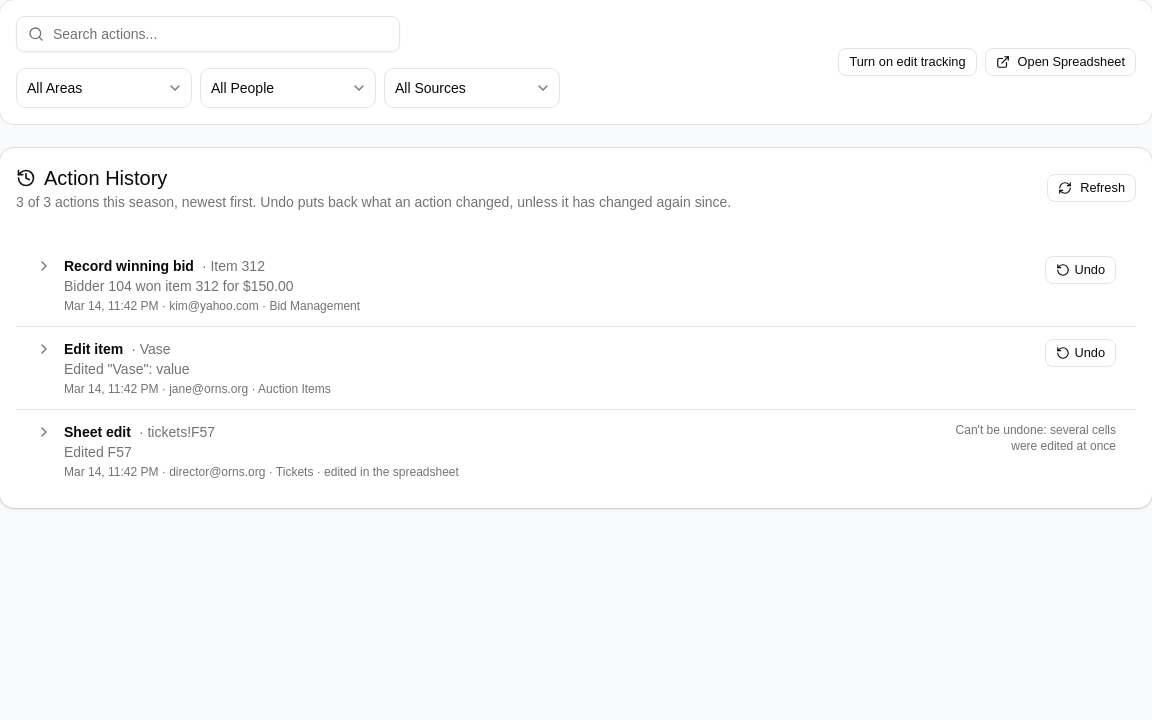
ActionHistoryAdmin › filters by person and by search
The width and height of the screenshot is (1152, 720).
Expected: the element with test id "action-row-a3" is shown, [16,244,1136,327]
Click the dropdown labelled "People". click: (288, 88)
box: [200,68,376,108]
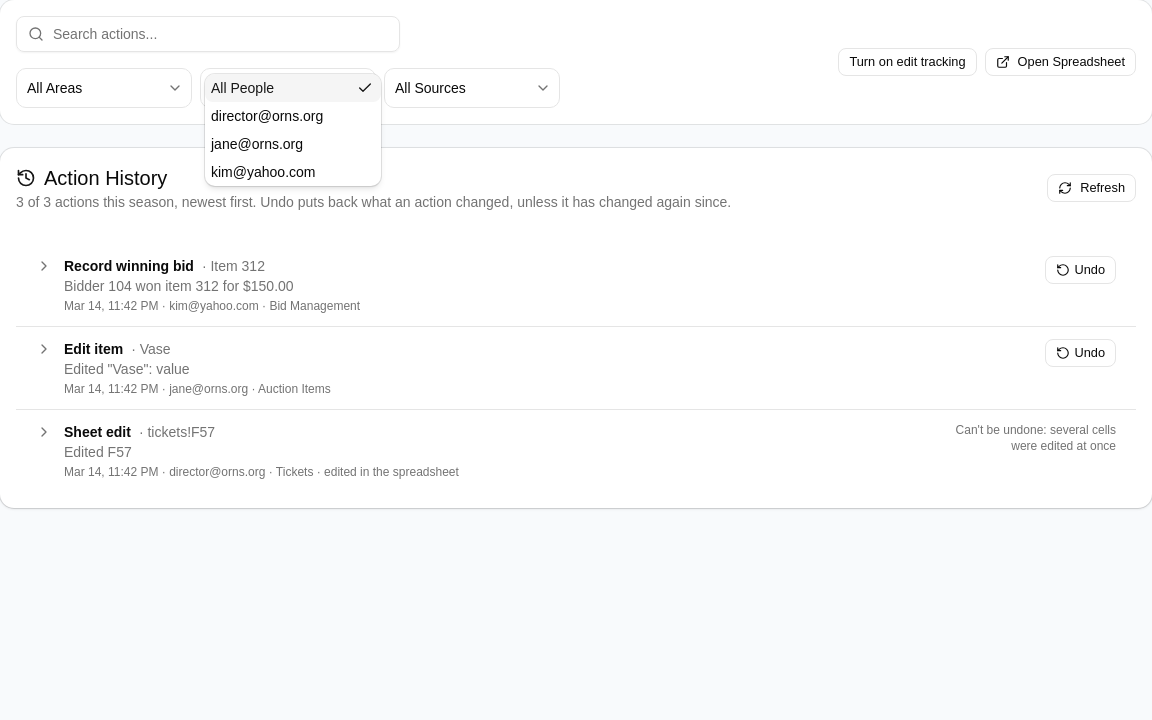
Click the option "jane@orns.org". click: (257, 144)
box: [211,136,303,152]
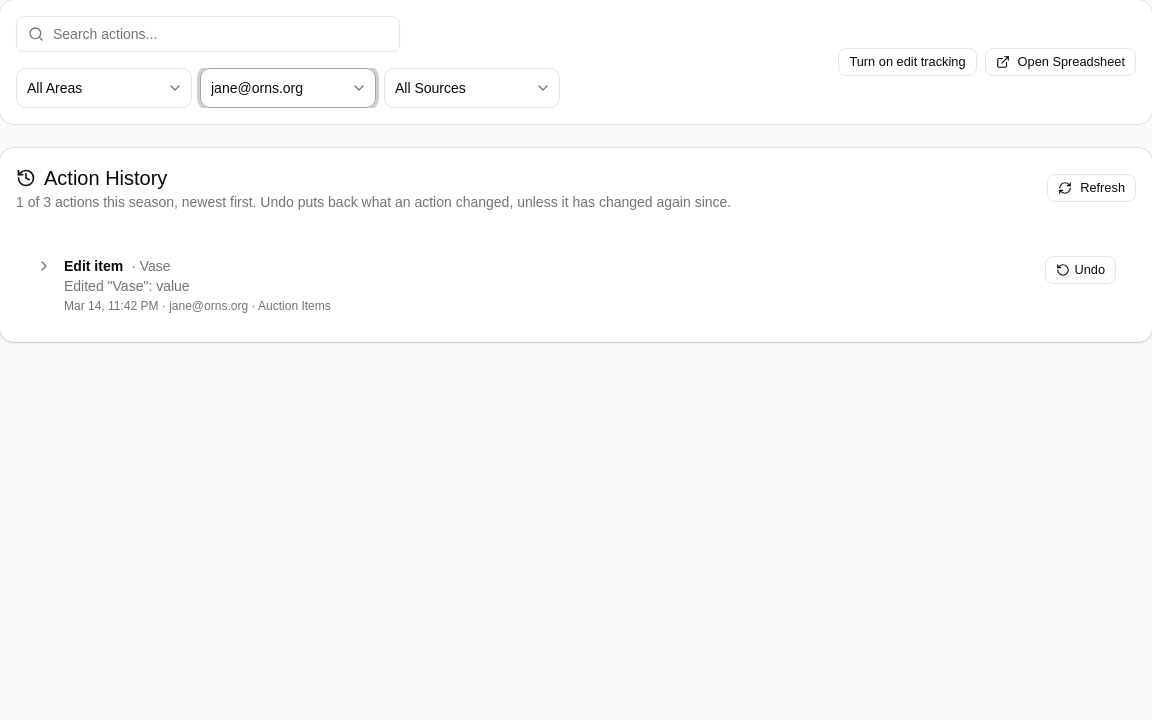
Expected: the element with test id "action-row-a2" is shown, [16,244,1136,326]
Result: the element with test id "action-row-a3" is gone
Click the dropdown named "People". click: (288, 88)
box: [200,68,376,108]
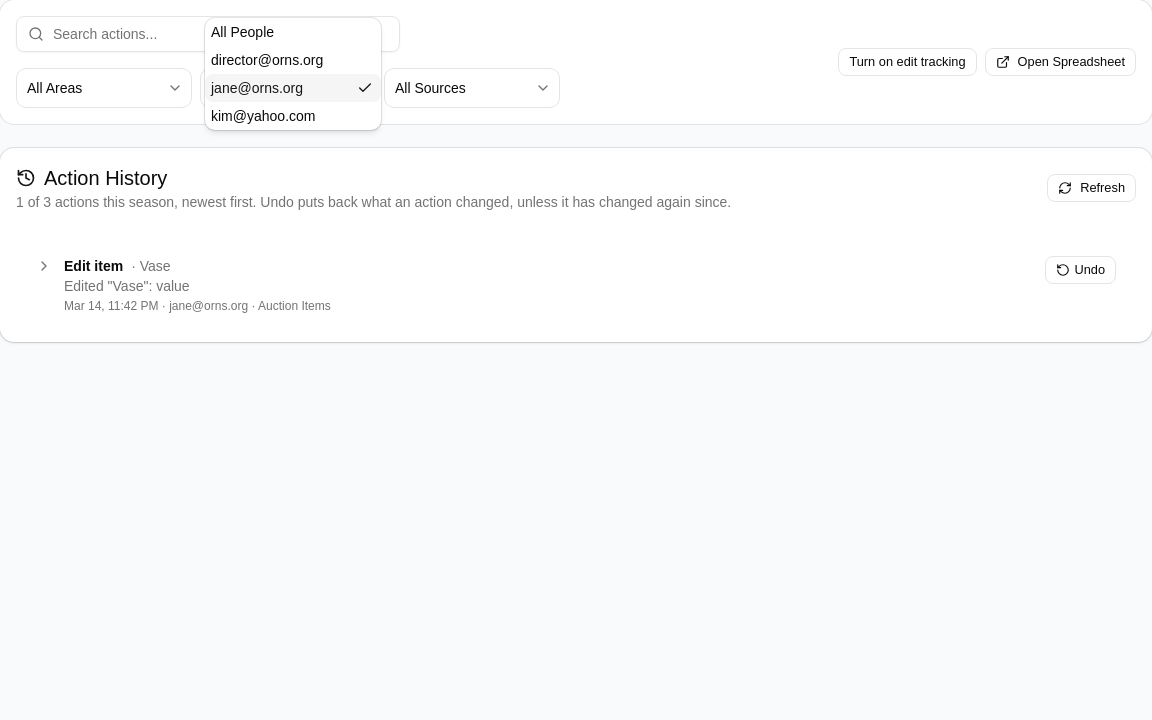
Click the option "All People". click: (242, 32)
box: [211,24,274,40]
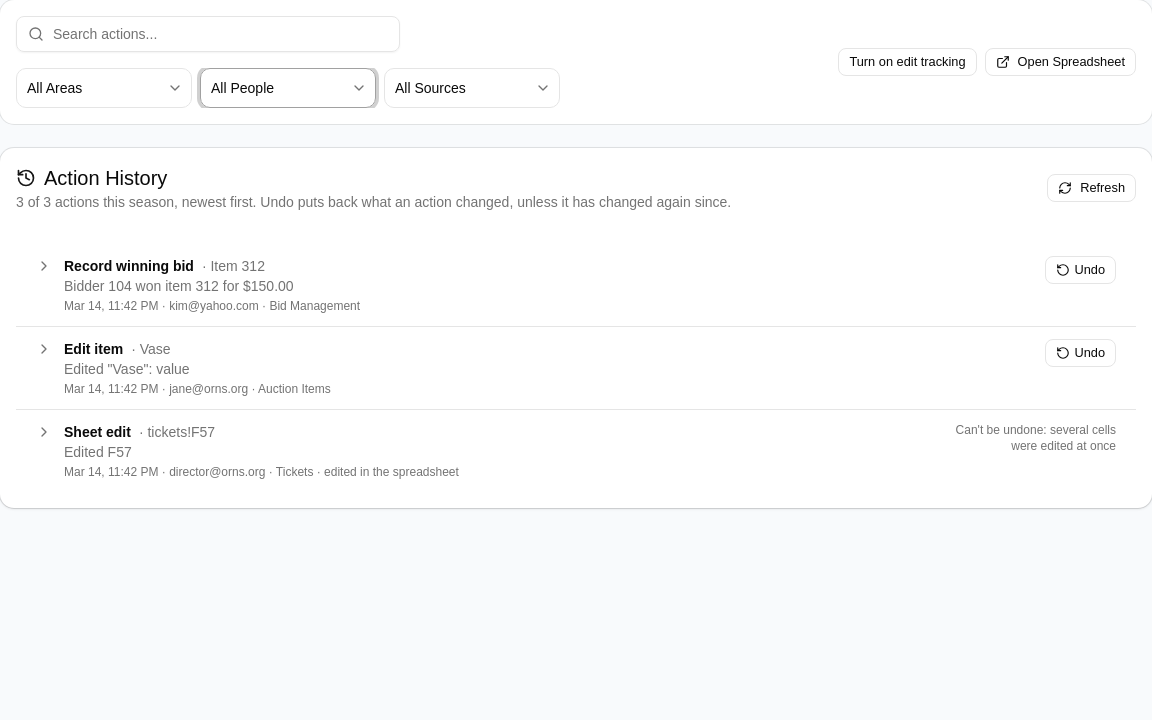
Type "item 312" into the field with placeholder "Search actions...". click: (208, 34)
box: [16,16,400,52]
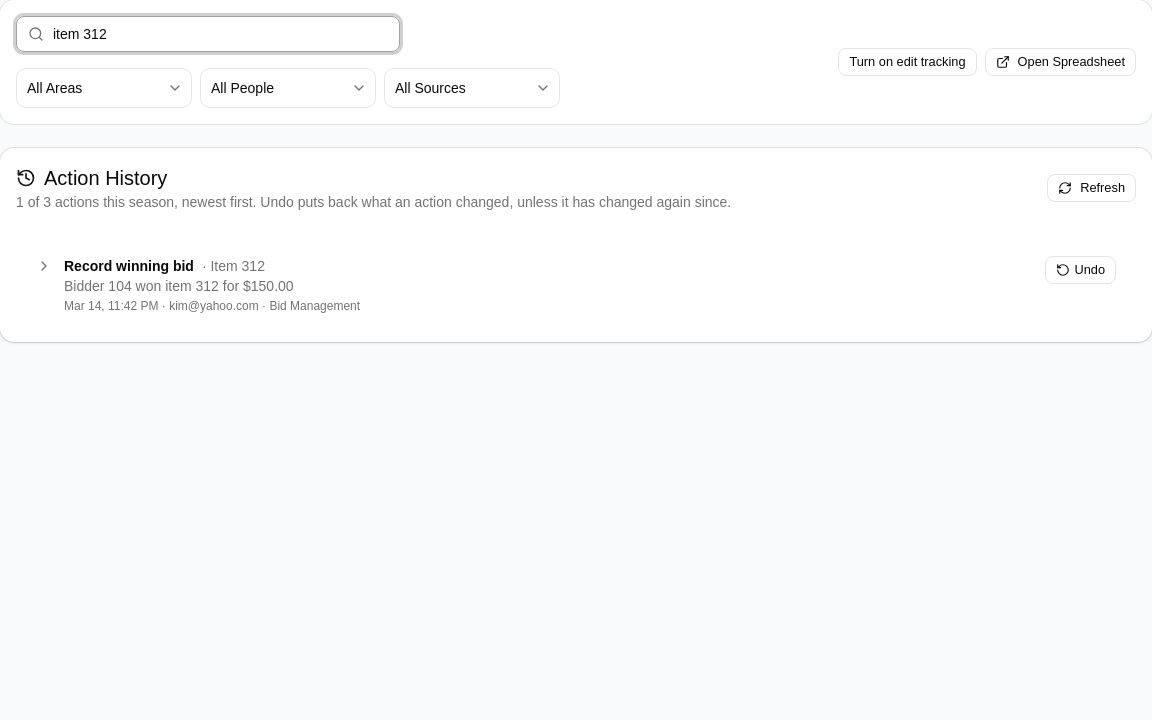
Result: the element with test id "action-row-a3" is shown at [16,244,1136,326]
Result: the element with test id "action-row-a2" is gone
